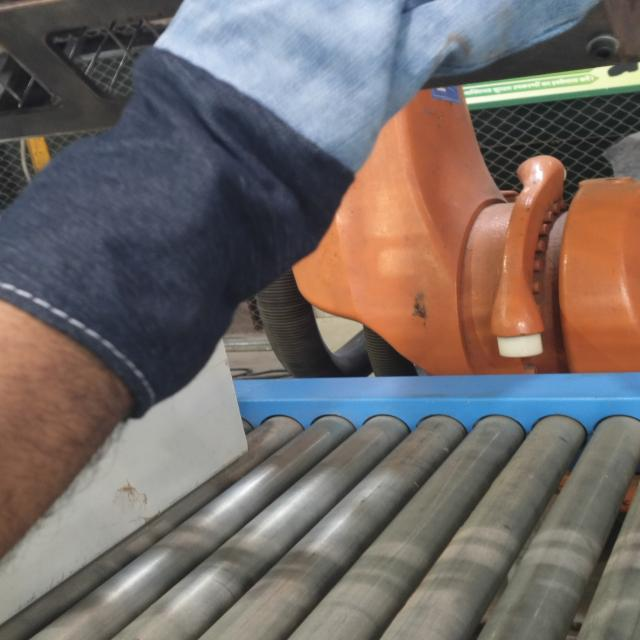Gloves-Detection: (9, 2, 590, 390)
